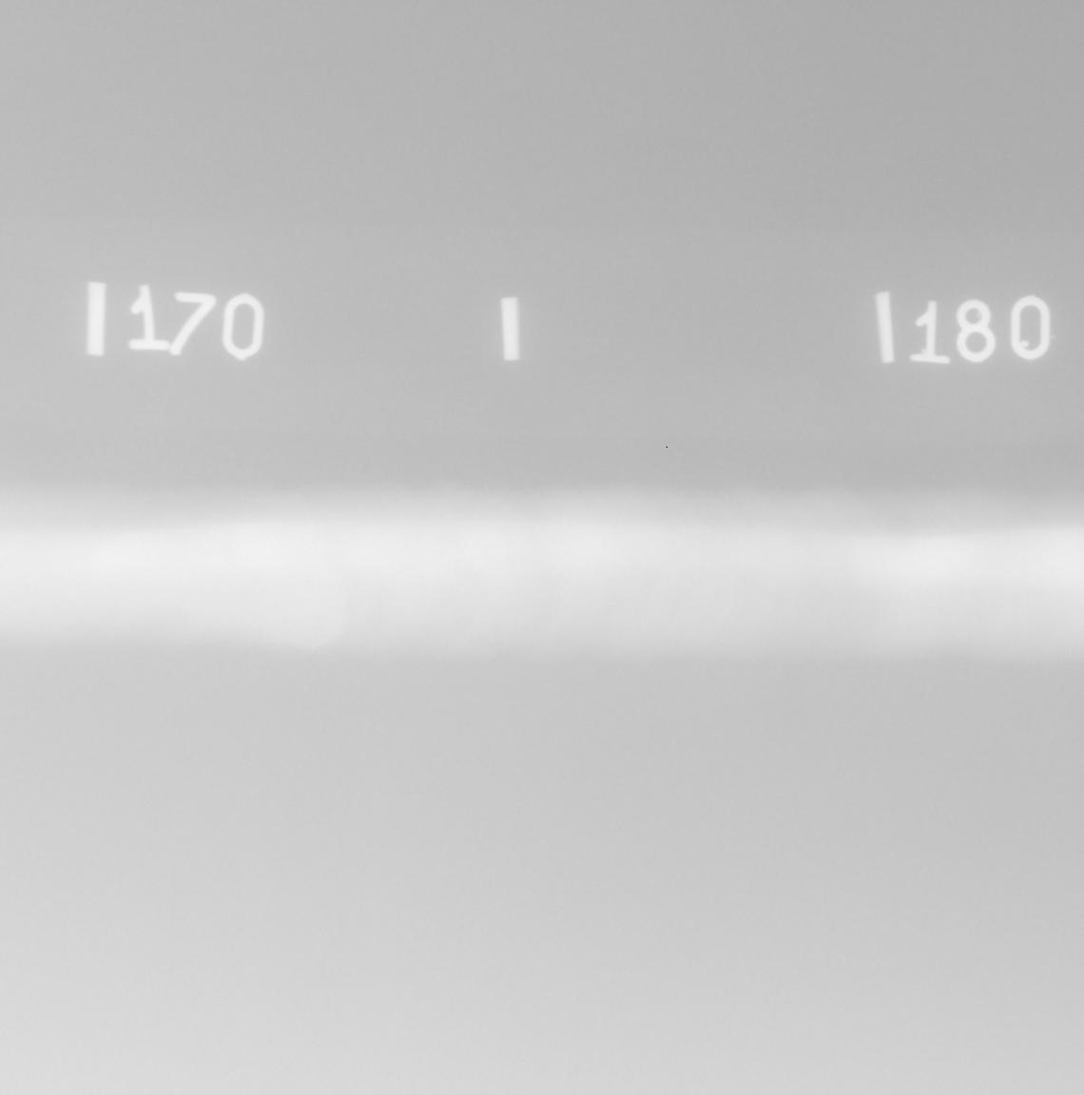Inclusion: (523, 624, 531, 630)
